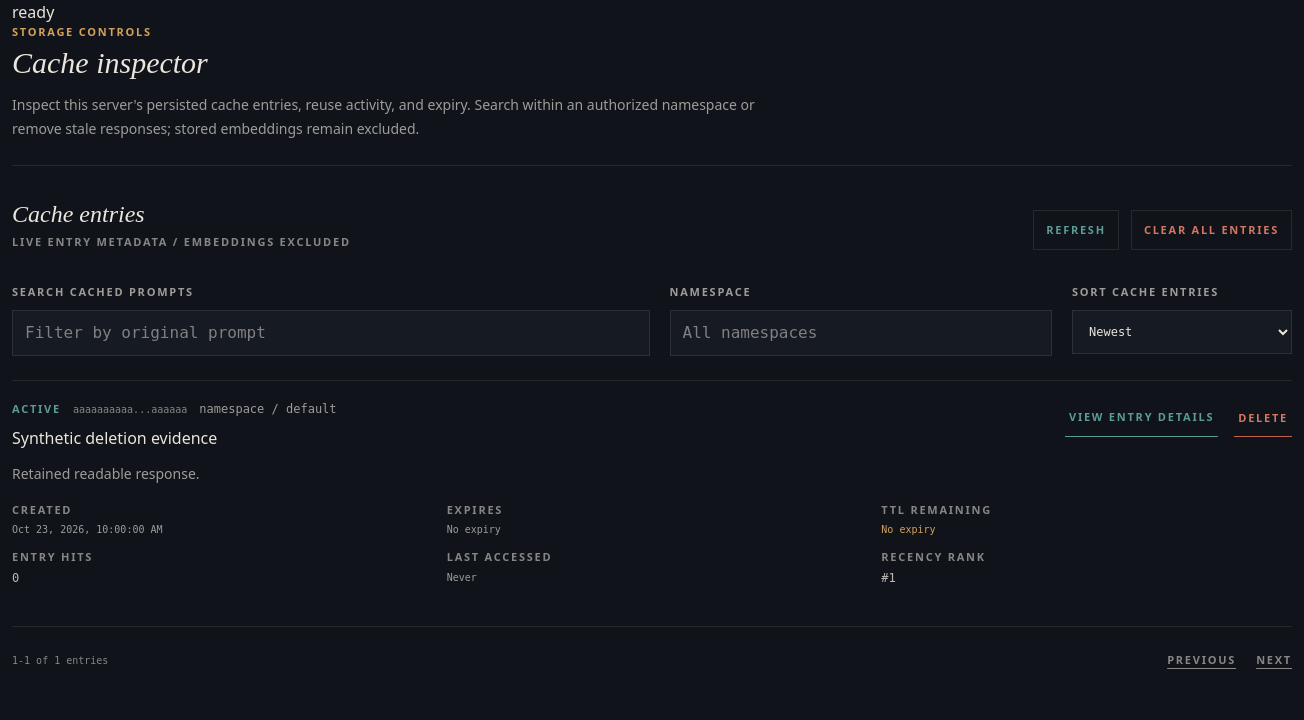
Test: confirmed and unconfirmed cache mutation outcomes › retains list confirmation and readable data on explicit rejection
This screenshot has width=1304, height=720.
Expected: the heading "Synthetic deletion evidence" is shown, [12,426,217,448]
Expected: the text named "Readings state" reads "ready", [12,1,54,23]
Click the button "Delete". click: click(1263, 419)
box: [1234,401,1292,437]
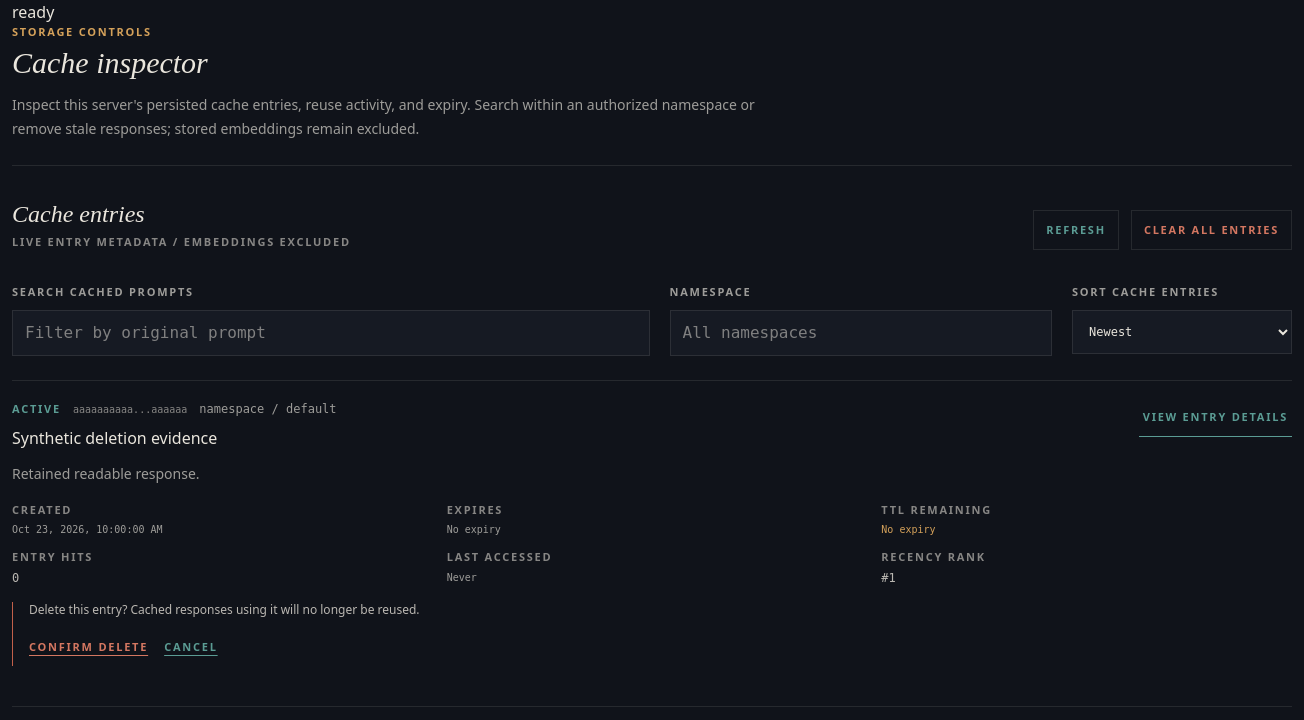
Click the button "Confirm delete". click: click(89, 648)
box: [29,630,148,666]
(page scrolled)
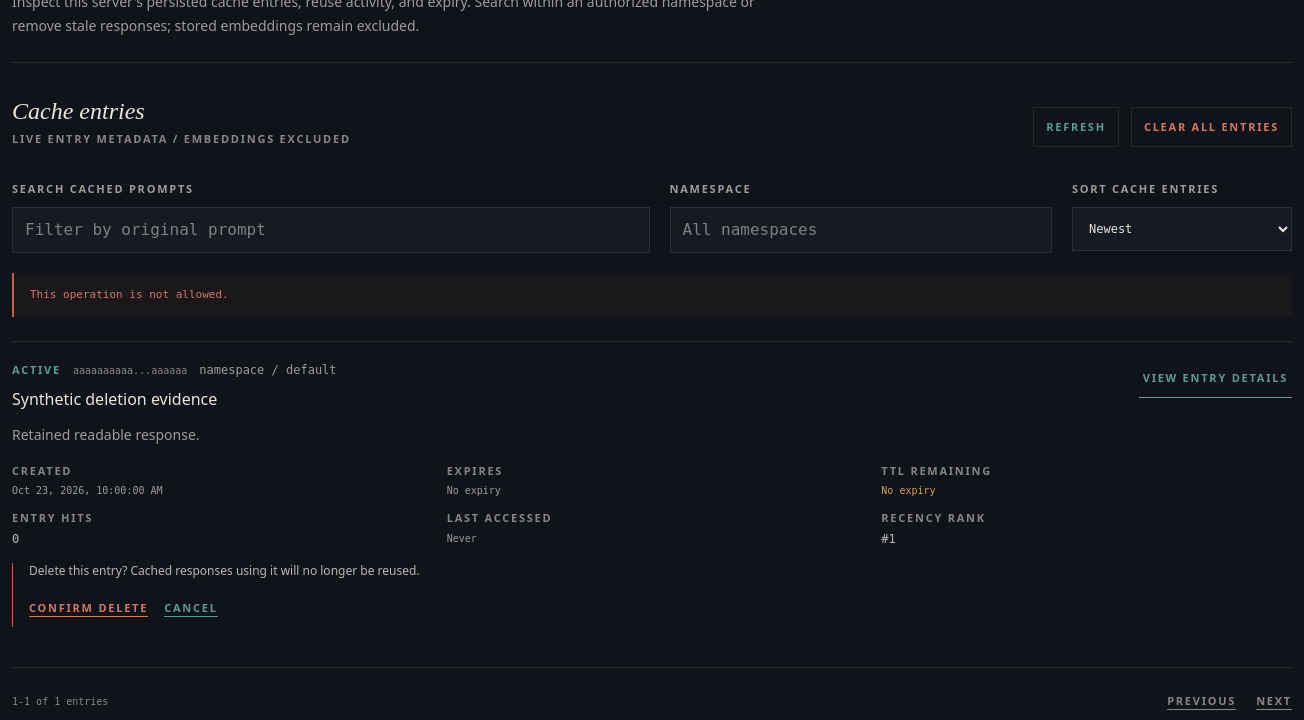
Expected: the heading "Synthetic deletion evidence" is shown, [12,388,217,410]
Now the message "This operation is not allowed." is shown, box [12,273,1292,317]
